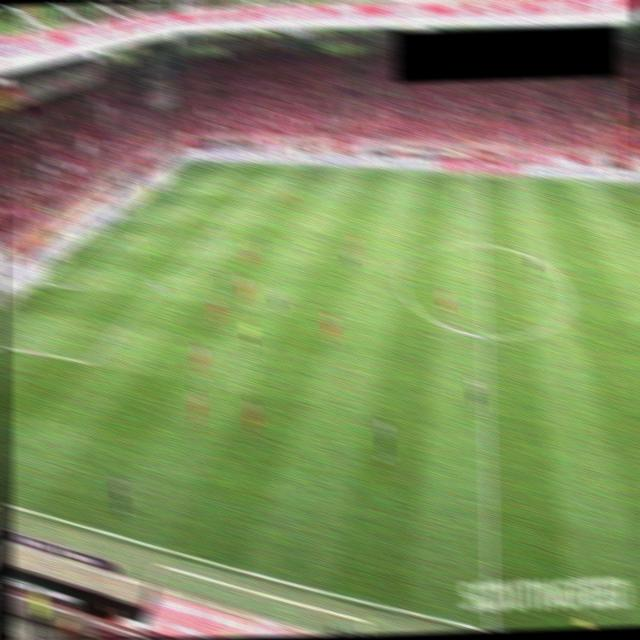bigarea_bottom_inner: (81, 354, 99, 369)
bigarea_top_inner: (239, 186, 255, 200)
bigarea_top_outter: (149, 183, 166, 196)
bottom_arc_area_intersection: (148, 278, 168, 295)
corner: (187, 157, 204, 169)
halfcircle_bottom: (474, 327, 494, 344)
halfcircle_top: (472, 236, 491, 250)
midline_bottom_intersection: (479, 621, 503, 630)
midline_top_intersection: (471, 169, 487, 182)
smallarea_bottom_inner: (63, 279, 81, 295)
smallarea_bottom_outter: (29, 276, 46, 291)
smallarea_top_inner: (146, 213, 162, 226)
smallarea_top_outter: (113, 211, 129, 224)
top_arc_area_intersection: (204, 221, 223, 237)
